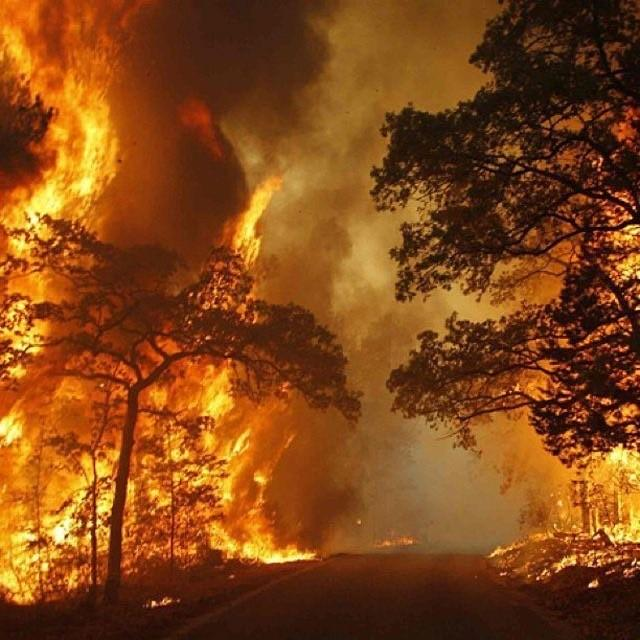fire: (0, 89, 300, 584), (487, 148, 640, 595), (376, 529, 421, 554)
